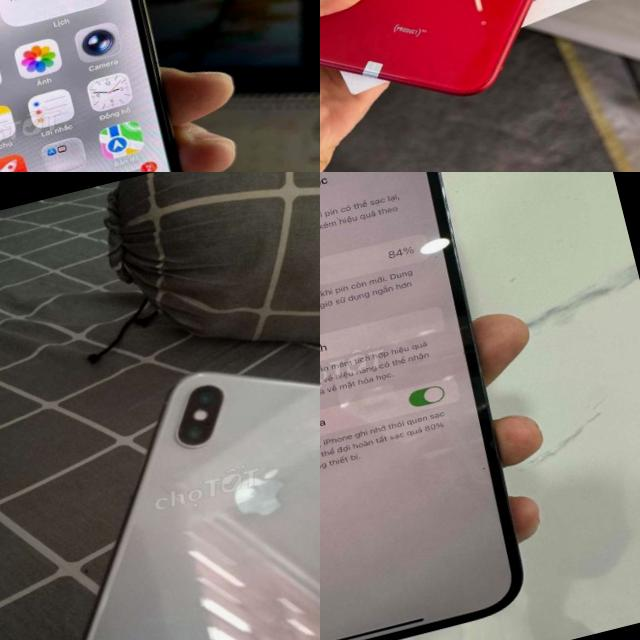scratch: (410, 223, 472, 274)
